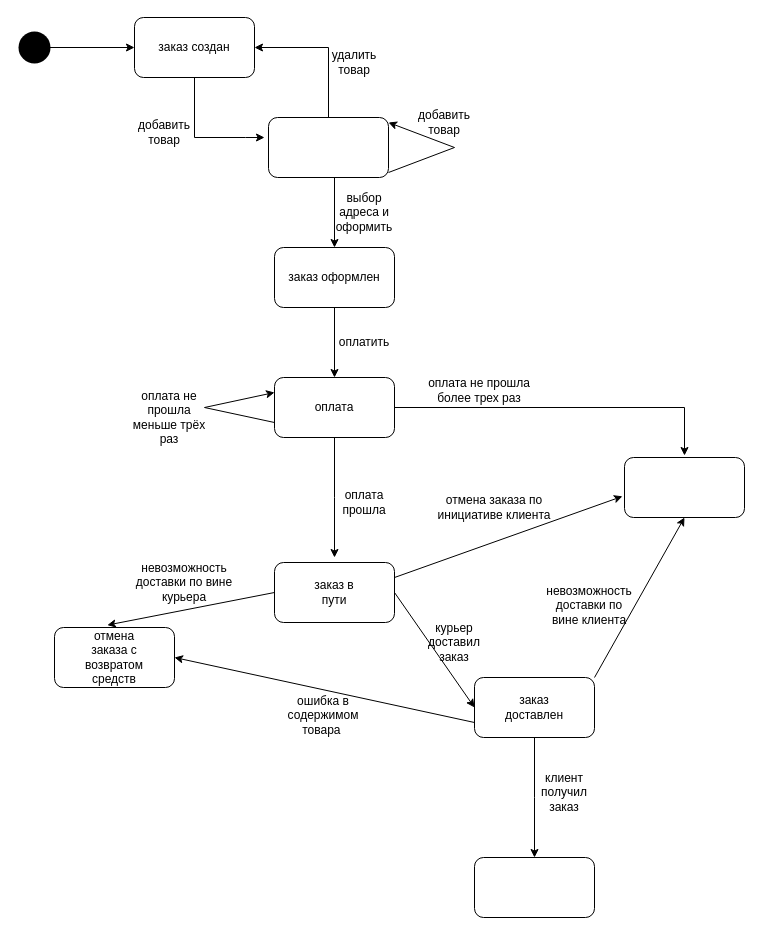
This 762x935 diagram has some shape labels left out. Here are the shapes that lost their labels. From the top down, the centre of each, then its label:
At [328,147]: "товар в корзине".
At [684,487]: "отмена заказа без возврата средств".
At [534,887]: "заказ получен".
